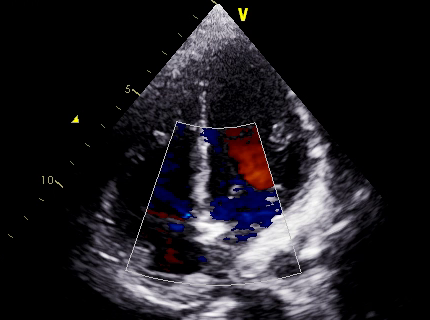MR: (214, 169, 296, 248)
